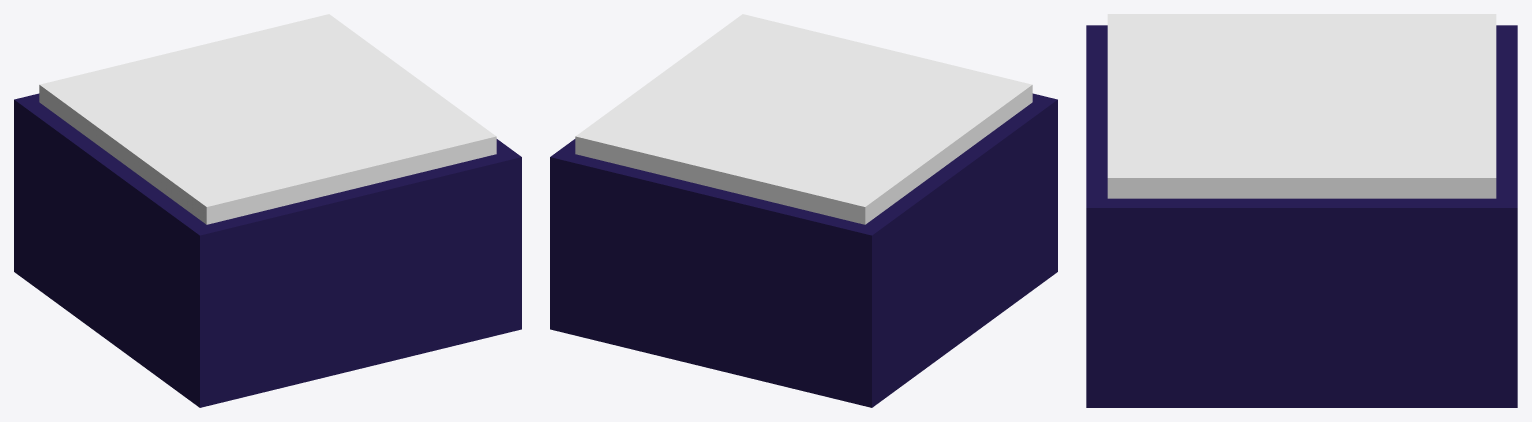
Rendered from StartPlatform.fbx.
3 renders of one model, left to right at view 1: azimuth 30°, elevation 25°; view 2: azimuth 150°, elevation 25°; view 3: azimuth 270°, elevation 25°, orthographic. The views are drawn at different scales.
Parts seen in each view (by area): view 1: display_01, display_02; view 2: display_01, display_02; view 3: display_01, display_02.
Part boxes in pixels (box(x1,y1,x2,y2)): display_01: box(14, 93, 521, 407); display_02: box(39, 14, 496, 224); display_01: box(550, 93, 1057, 407); display_02: box(575, 14, 1032, 224); display_01: box(1086, 25, 1517, 407); display_02: box(1107, 14, 1496, 198).
Bounding box in the file's own units: 3.5 × 1.98 × 3.5.
